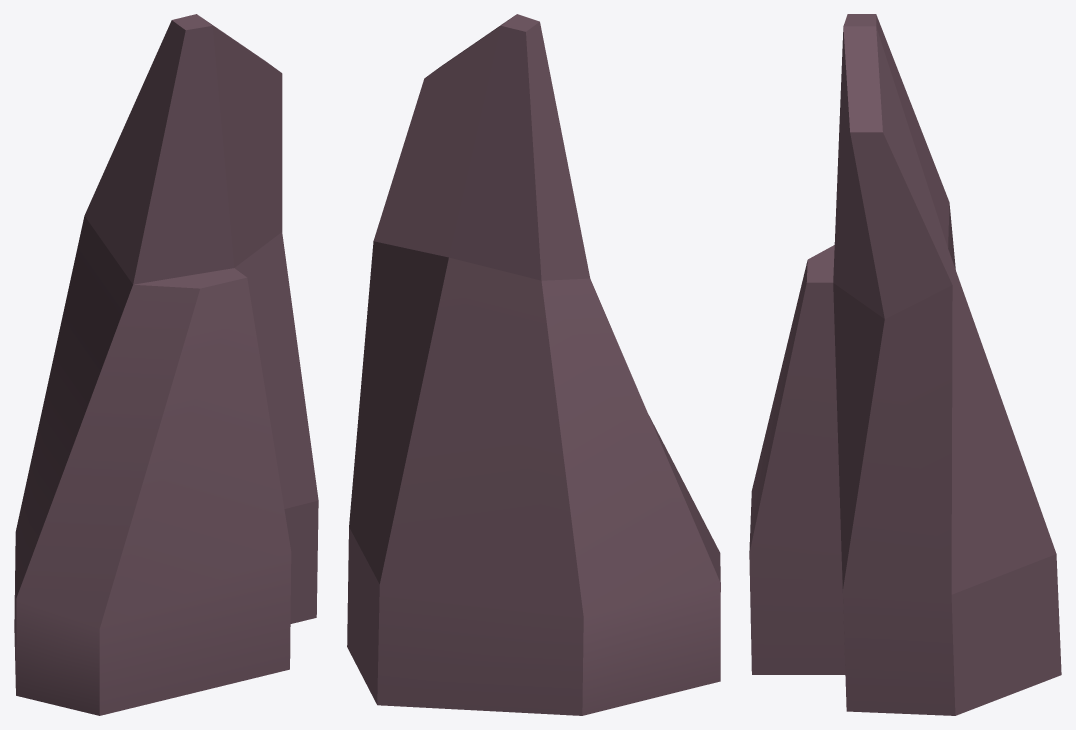
File: shitrock2.fbx
The picture shows the model from 3 angles, left to right: view 1: azimuth 30°, elevation 25°; view 2: azimuth 150°, elevation 25°; view 3: azimuth 270°, elevation 25°; orthographic projection. The views are drawn at different scales.
Parts seen in each view (by area): view 1: shitrock2; view 2: shitrock2; view 3: shitrock2.
Part boxes in pixels (box(x1,y1,x2,y2)): shitrock2: box(14, 14, 318, 715); shitrock2: box(347, 14, 720, 715); shitrock2: box(749, 14, 1061, 715).
Size of the model in its own units: 1717 by 3231 by 1445.
